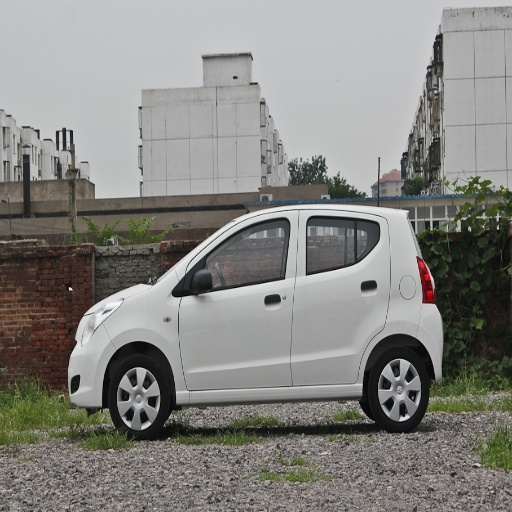back_left_door: (294, 214, 389, 384)
front_left_door: (179, 214, 297, 390)
